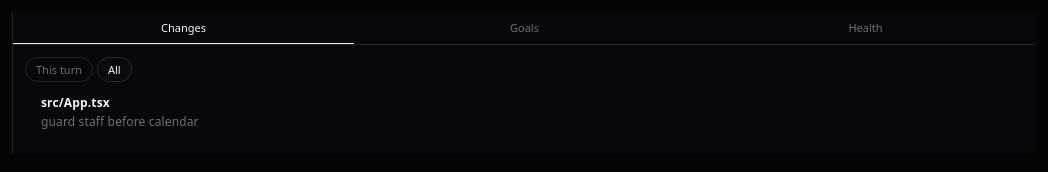
Test case: InspectorDrawer › lists workspace diffs and goal titles with text status
Expected: the text "src/App.tsx" is shown, [41, 94, 110, 111]
Expected: the text "guard staff before calendar" is shown, [41, 113, 199, 131]
Click the tab "Goals": (524, 28) [354, 12, 695, 44]
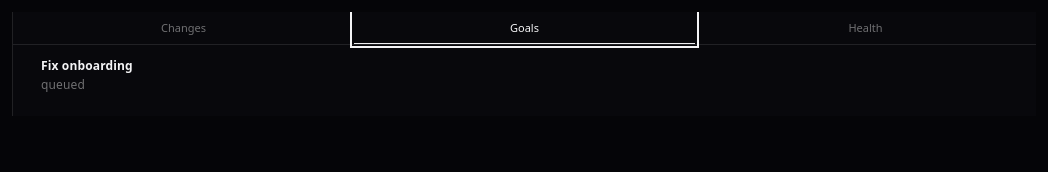
Expected: the text "Fix onboarding" is shown, [41, 57, 133, 74]
Expected: the text "queued" is shown, [41, 76, 85, 93]
